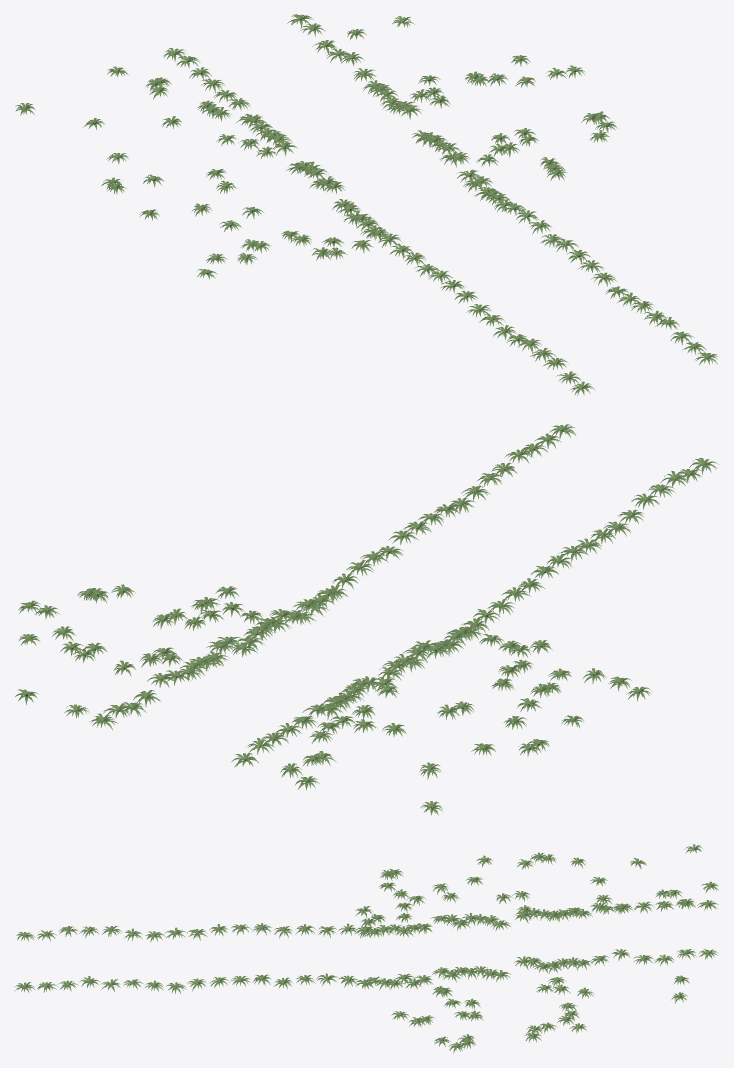
Rendered from E7-7_Palmeiras_folhas.fbx.
The picture shows the model from 3 angles, top to bottom: view 1: azimuth 30°, elevation 25°; view 2: azimuth 150°, elevation 25°; view 3: azimuth 270°, elevation 25°; orthographic projection. The views are drawn at different scales.
Visible parts, largest first — view 1: E7-7_Palmeiras_folhas; view 2: E7-7_Palmeiras_folhas; view 3: E7-7_Palmeiras_folhas.
Boxes of the visible parts, left/top/right/bottom form: E7-7_Palmeiras_folhas: left=15, top=14, right=717, bottom=395; E7-7_Palmeiras_folhas: left=15, top=424, right=718, bottom=815; E7-7_Palmeiras_folhas: left=14, top=844, right=718, bottom=1053.
Bounding box in the file's own units: 235 × 24.58 × 360.
